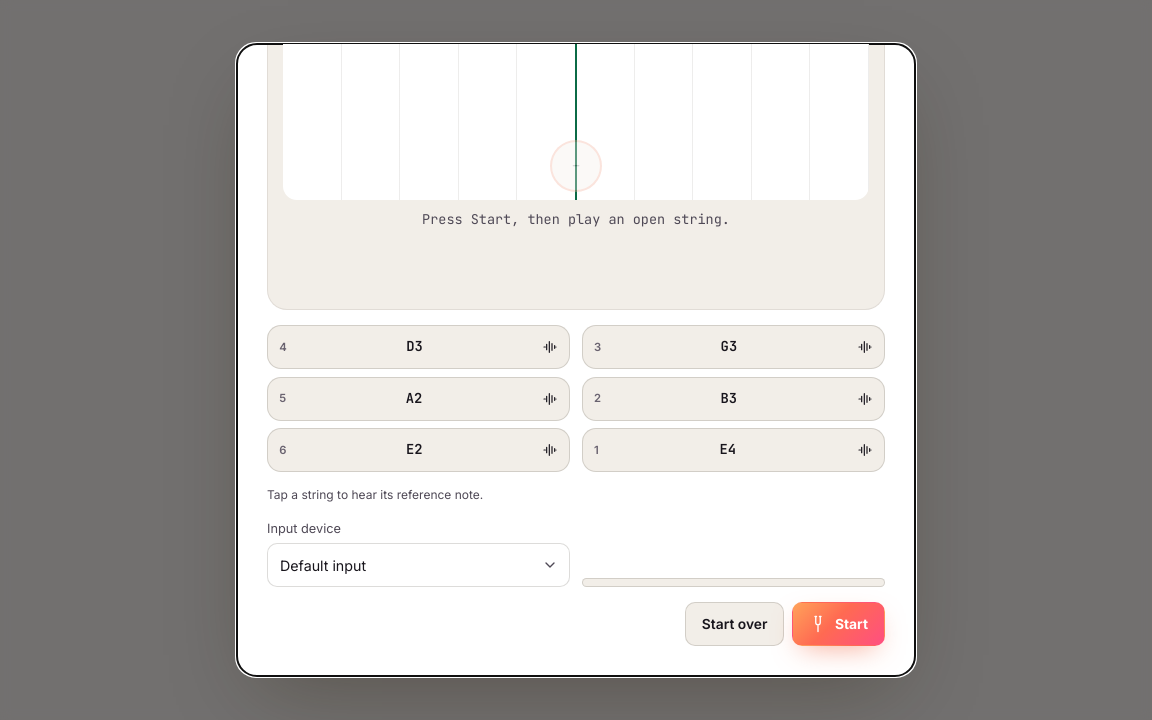
it: TunerSheet › preloads the song's tuning and shows the nearest string with its cents
The width and height of the screenshot is (1152, 720).
(page scrolled)
expect the button with test id "tuner-string-5" shows "E2": met, box [267,428,570,472]
Click the button with test id "tuner-start" at (838, 624), box [792,602,885,646]
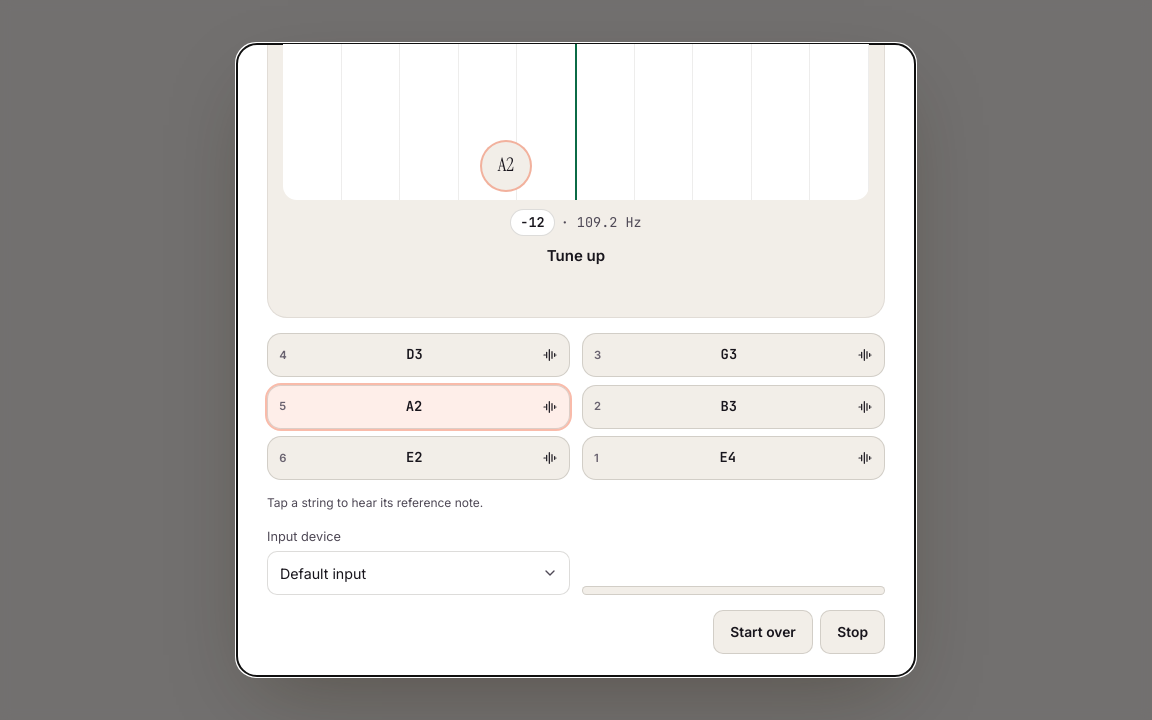
expect the text with test id "tuner-note" reads "A2": met, box [498,152,514,177]
expect the element with test id "tuner-cents" shows "-12": met, box [520,213,545,231]
